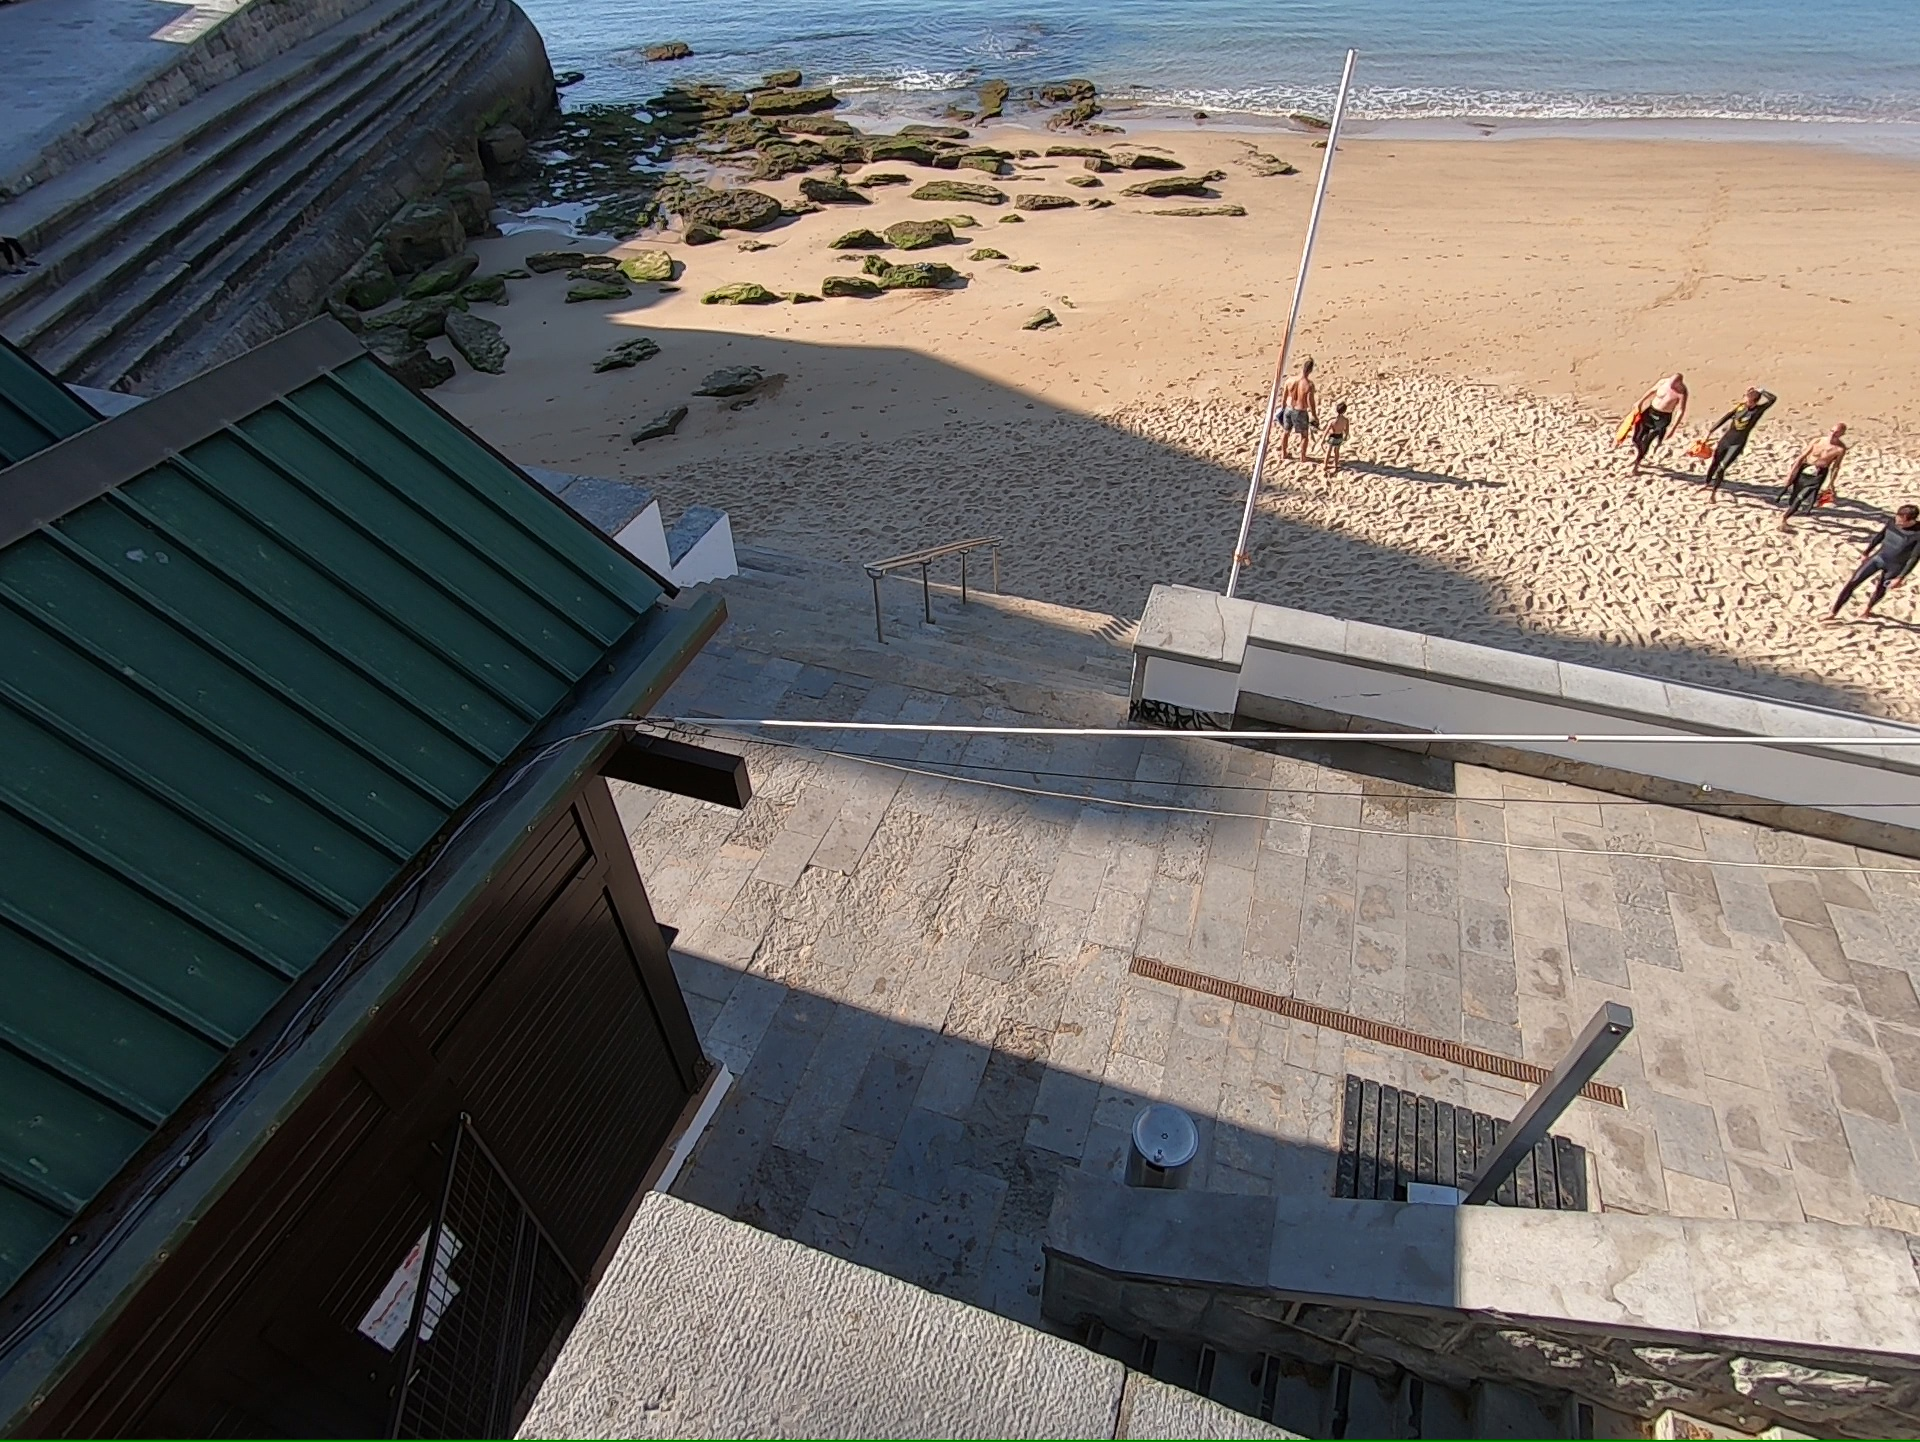person: (1710, 382, 1772, 486), (1624, 370, 1689, 469), (1862, 503, 1918, 615), (1786, 419, 1846, 523), (1279, 351, 1319, 455), (1325, 398, 1349, 466)
